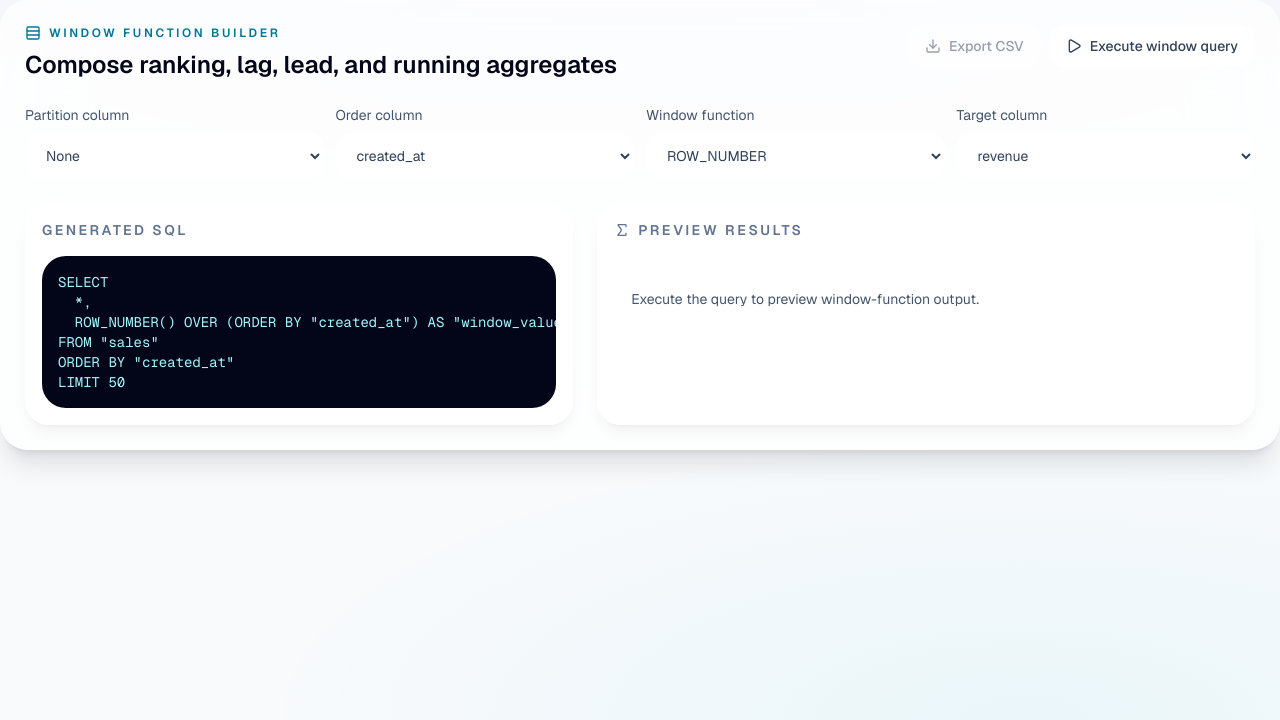
Test: WindowFunctionBuilder › executes the window query and renders preview rows
Click the button "Execute window query".
click(1152, 46)  # box top-left (1049, 25), bottom-right (1255, 67)
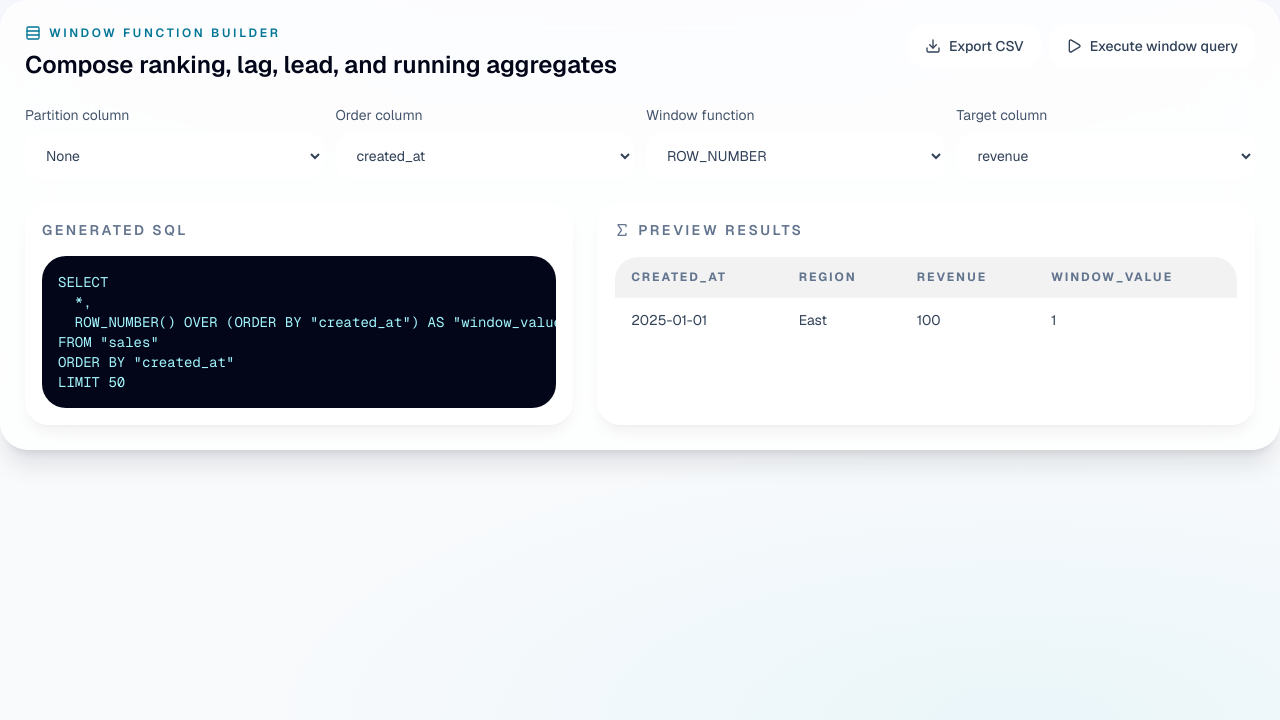
Expected: the text "East" is shown, top-left (783, 298), bottom-right (901, 342)
Expected: the text "100" is shown, top-left (901, 298), bottom-right (1035, 342)
